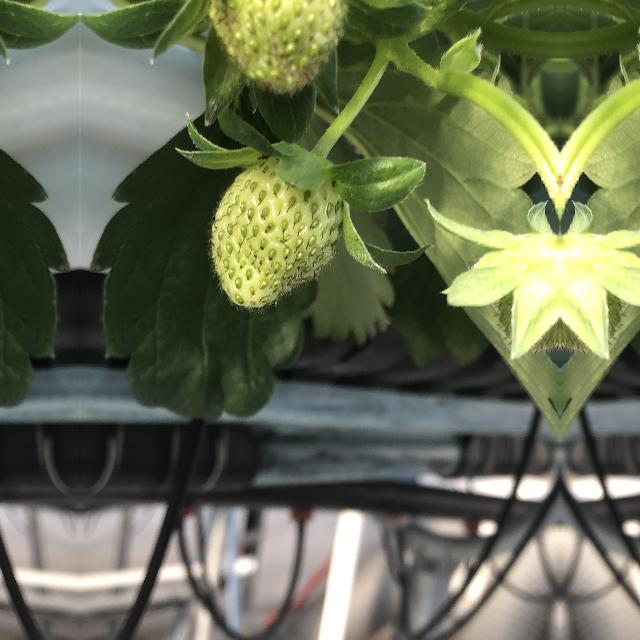Health_25: (212, 150, 346, 314), (210, 0, 350, 102)
